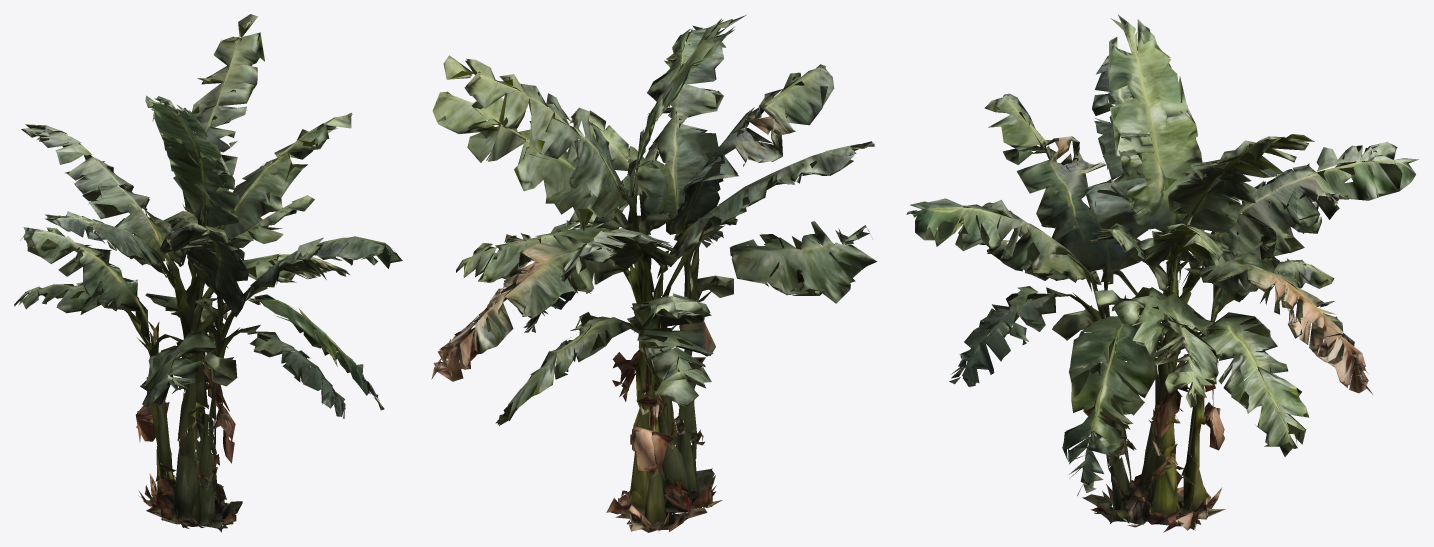
Rendered from banana_plant_LOD1.fbx.
3 renders of one model, left to right at view 1: azimuth 30°, elevation 25°; view 2: azimuth 150°, elevation 25°; view 3: azimuth 270°, elevation 25°, orthographic. The views are drawn at different scales.
Parts seen in each view (by area): view 1: banana_plant.001; view 2: banana_plant.001; view 3: banana_plant.001.
Boxes of the visible parts, bbox=[...] form: banana_plant.001: bbox=[14, 14, 402, 532]; banana_plant.001: bbox=[431, 15, 877, 532]; banana_plant.001: bbox=[906, 14, 1418, 532].
Bounding box in the file's own units: 2.46 × 2.99 × 2.95.
1 material, 1 textured.
